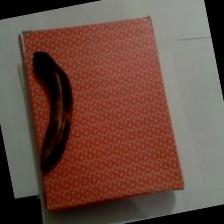Banana Rotten: (22, 40, 88, 182)
